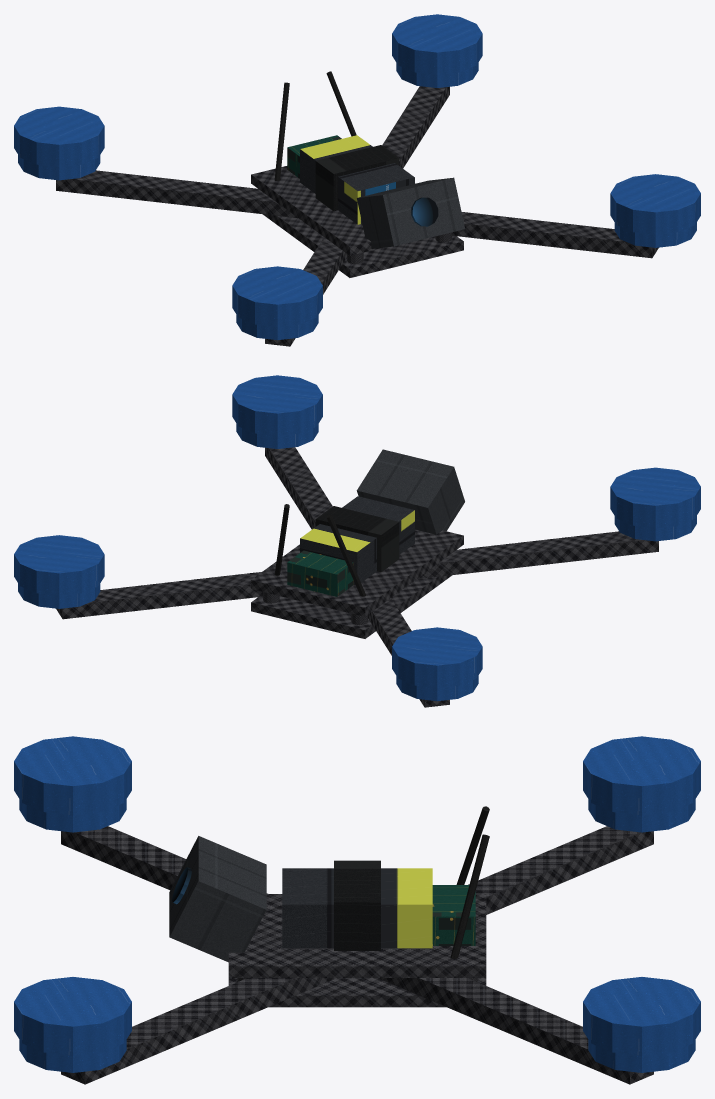
File: drone_fpv_fiber.fbx
3 views of the same model, one above another, from view 1: azimuth 30°, elevation 25°; view 2: azimuth 150°, elevation 25°; view 3: azimuth 270°, elevation 25° (orthographic). The views are drawn at different scales.
Visible parts, largest first — view 1: DroneFiberBody; view 2: DroneFiberBody; view 3: DroneFiberBody.
Boxes of the visible parts, x1,y1,x2,y2 form: DroneFiberBody: (14,14,700,346); DroneFiberBody: (14,375,700,707); DroneFiberBody: (14,736,700,1084).
Size of the model in its own units: 16.26 by 16.26 by 3.92.
